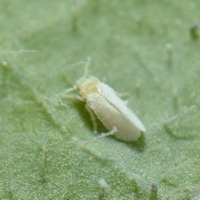insect: (64, 57, 144, 141)
